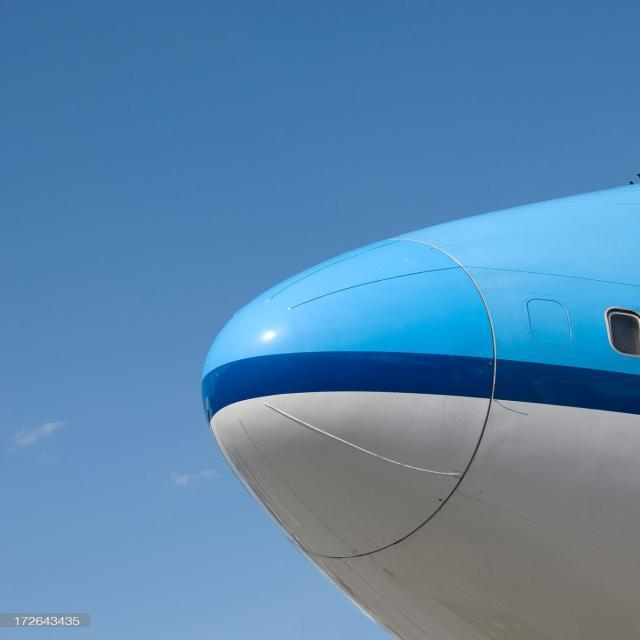crack: (494, 397, 537, 420)
